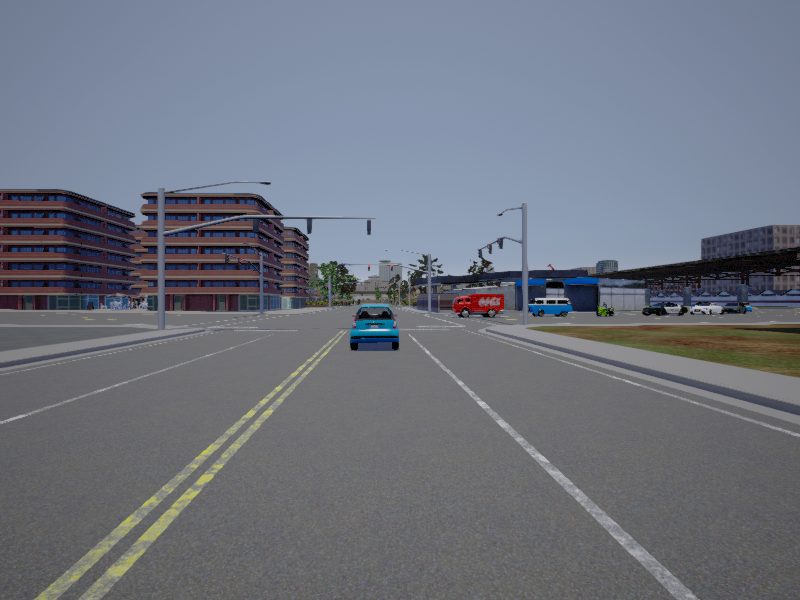Benign: (353, 304, 402, 351), (453, 294, 505, 319), (529, 297, 575, 319), (645, 298, 687, 318), (686, 299, 724, 318), (723, 301, 746, 315)
